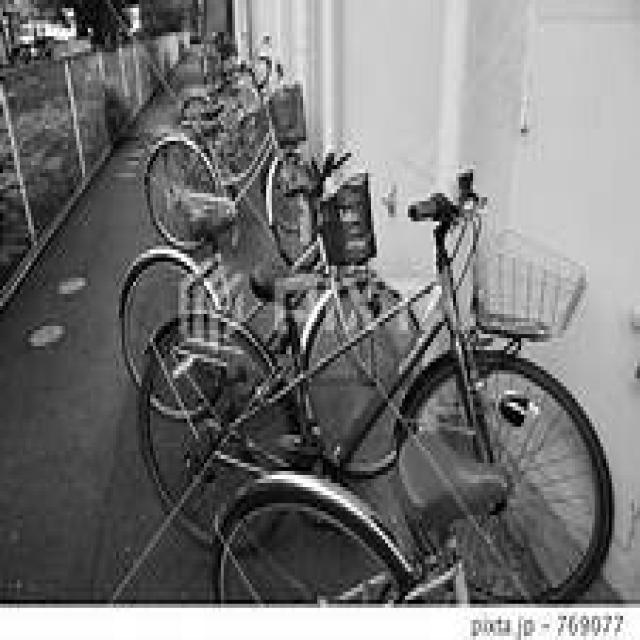basket: (463, 228, 590, 350), (320, 169, 377, 270)
